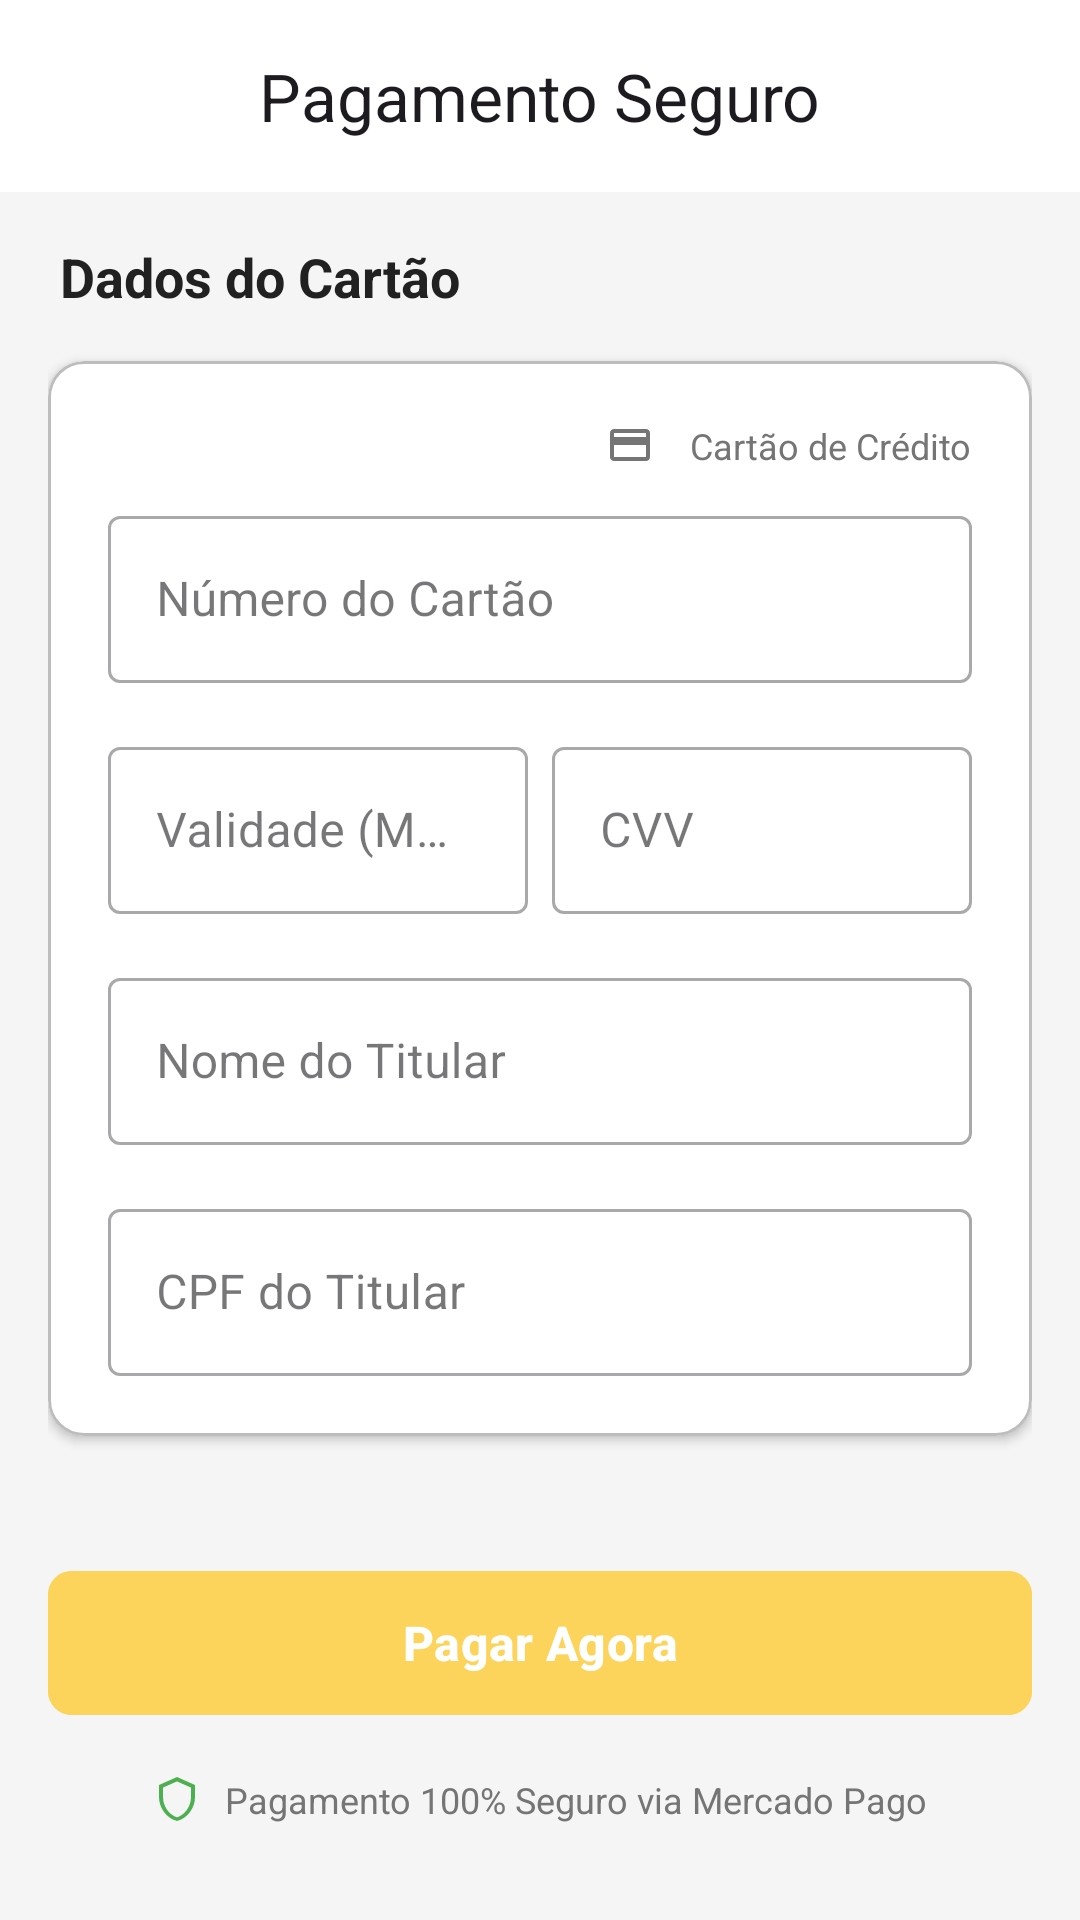

Named icons in this screenshot (1080px×1920px) and their centers, [x,y]:
payment: [630,445]
shield: [177,1799]
